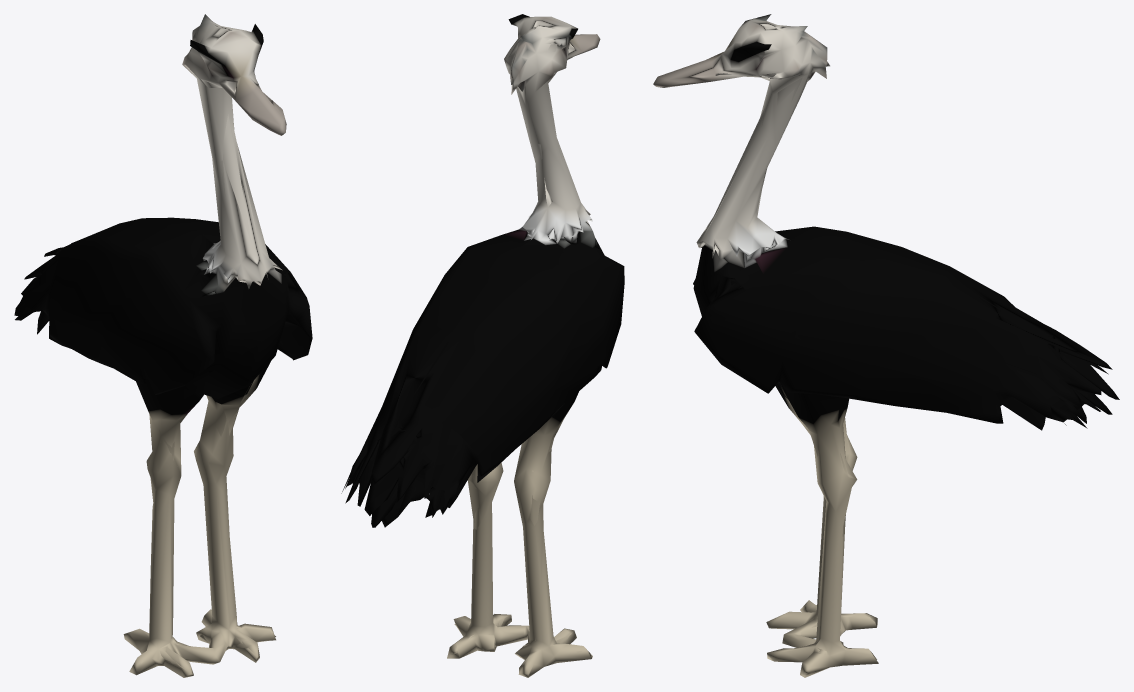
File: gen3d-ostrich-lod0.glb
3 views of the same model, side by side, from view 1: azimuth 30°, elevation 25°; view 2: azimuth 150°, elevation 25°; view 3: azimuth 270°, elevation 25° (orthographic). The views are drawn at different scales.
Parts seen in each view (by area): view 1: part_0; view 2: part_0; view 3: part_0.
Part boxes in pixels (<box>): part_0: <box>14,14,312,677</box>; part_0: <box>341,14,624,677</box>; part_0: <box>653,14,1119,677</box>.
Bounding box in the file's own units: 0.2508 × 0.9985 × 0.6802.
